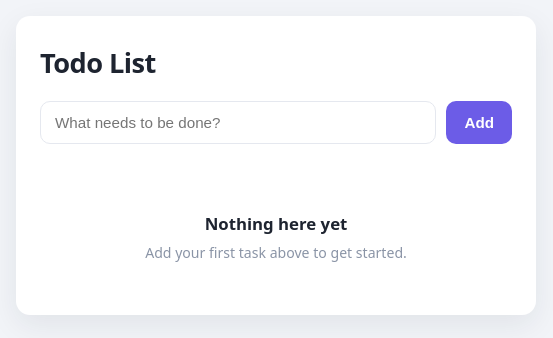
Scenario: Todo app › deletes a todo
Type "Delete me" into the field named "new todo text" at (238, 122), box [40,101,436,144]
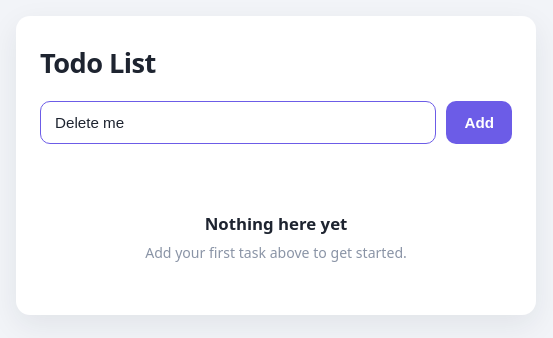
Click the button "Add" at (479, 122), box [446,101,512,144]
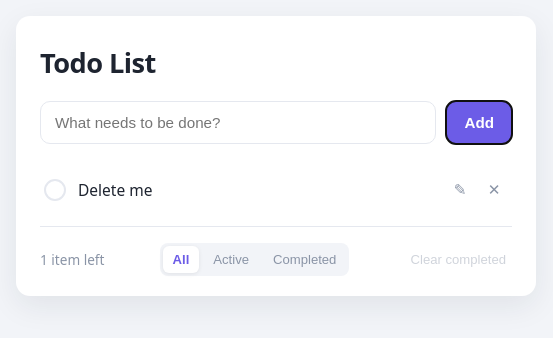
Click the button named "delete todo" at (494, 190), box [480,176,508,204]
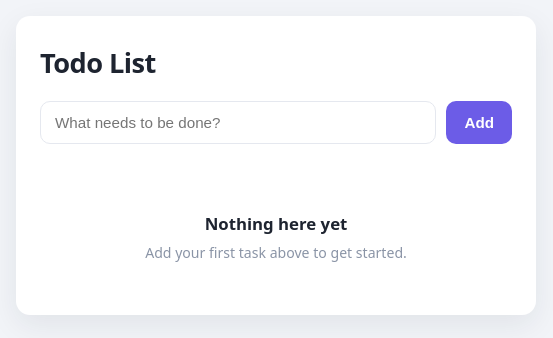
Check: the text "Delete me" is gone
Check: the text "Nothing here yet" is shown, box [205,212,347,235]
